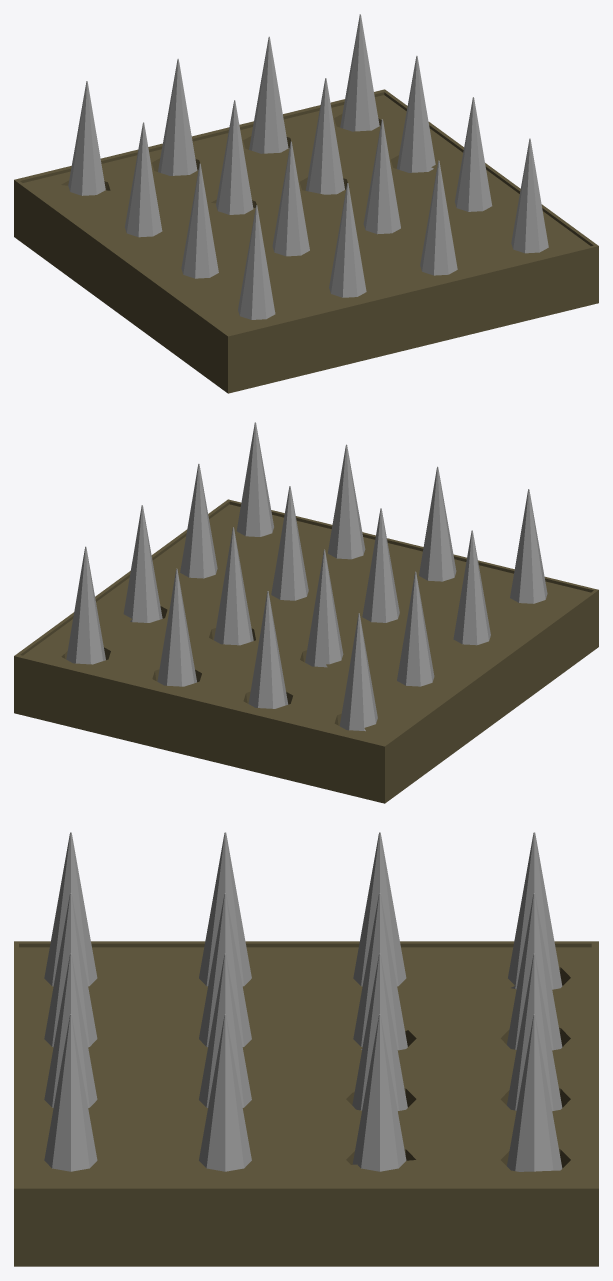
The model's file is T. Pinchos.fbx.
The picture shows the model from 3 angles, top to bottom: view 1: azimuth 30°, elevation 25°; view 2: azimuth 150°, elevation 25°; view 3: azimuth 270°, elevation 25°; orthographic projection. The views are drawn at different scales.
Parts seen in each view (by area): view 1: Base.001, Pinchos 2; view 2: Base.001, Pinchos 2; view 3: Base.001, Pinchos 2.
Part boxes in pixels (left/top/right/bottom): Base.001: left=14, top=89, right=598, bottom=393; Pinchos 2: left=68, top=14, right=548, bottom=319; Base.001: left=14, top=499, right=598, bottom=803; Pinchos 2: left=66, top=422, right=547, bottom=731; Base.001: left=14, top=941, right=598, bottom=1266; Pinchos 2: left=44, top=832, right=562, bottom=1171.
Size of the model in its own units: 400 by 166 by 400.
